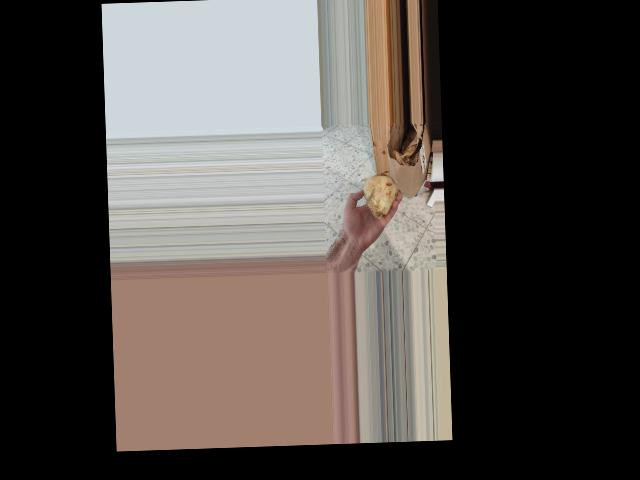onion: (362, 170, 400, 217)
